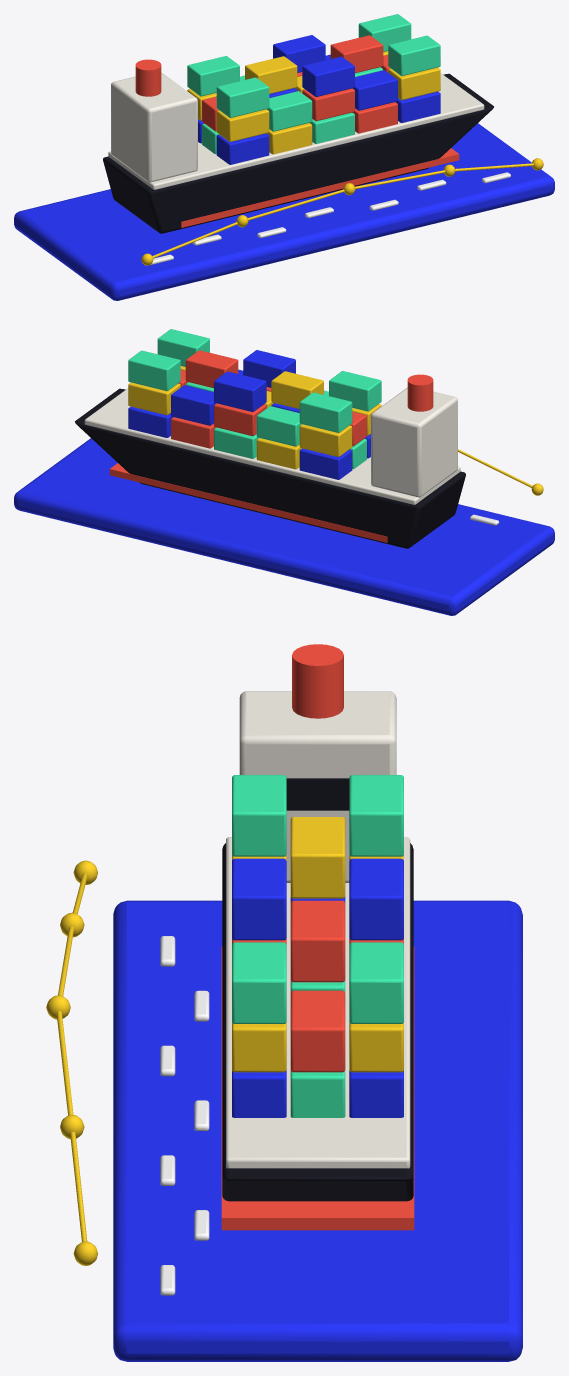
File: ship.glb
3 views of the same model, one above another, from view 1: azimuth 30°, elevation 25°; view 2: azimuth 150°, elevation 25°; view 3: azimuth 270°, elevation 25° (orthographic). The views are drawn at different scales.
Visible parts, largest first — view 1: sea, hull, conC, bridge, conA, conB, conD, deck, route, waves; view 2: sea, hull, conC, bridge, conA, conB, conD, deck, route; view 3: sea, conC, bridge, deck, hull, conA, conB, conD, route, waves.
Boxes of the visible parts, <box> form: sea: <box>14,123,554,300</box>; hull: <box>103,73,493,233</box>; conC: <box>187,14,440,154</box>; bridge: <box>111,59,197,182</box>; conA: <box>198,35,440,164</box>; conB: <box>187,51,440,154</box>; conD: <box>202,35,397,133</box>; deck: <box>108,73,484,189</box>; route: <box>141,158,543,265</box>; waves: <box>150,172,510,265</box>; sea: <box>14,438,554,615</box>; hull: <box>75,388,465,548</box>; conC: <box>128,329,381,469</box>; bridge: <box>371,374,457,497</box>; conA: <box>128,350,370,479</box>; conB: <box>128,366,381,469</box>; conD: <box>171,350,366,448</box>; deck: <box>84,388,460,504</box>; route: <box>458,449,543,495</box>; sea: <box>113,900,522,1361</box>; conC: <box>232,775,403,1117</box>; bridge: <box>239,644,396,882</box>; deck: <box>226,837,410,1168</box>; hull: <box>221,843,414,1230</box>; conA: <box>232,858,403,1117</box>; conB: <box>232,817,403,1072</box>; conD: <box>232,900,403,1072</box>; route: <box>46,860,97,1265</box>; waves: <box>160,936,209,1295</box>.
Bounding box in the file's own units: 15 × 5.85 × 6.98.
